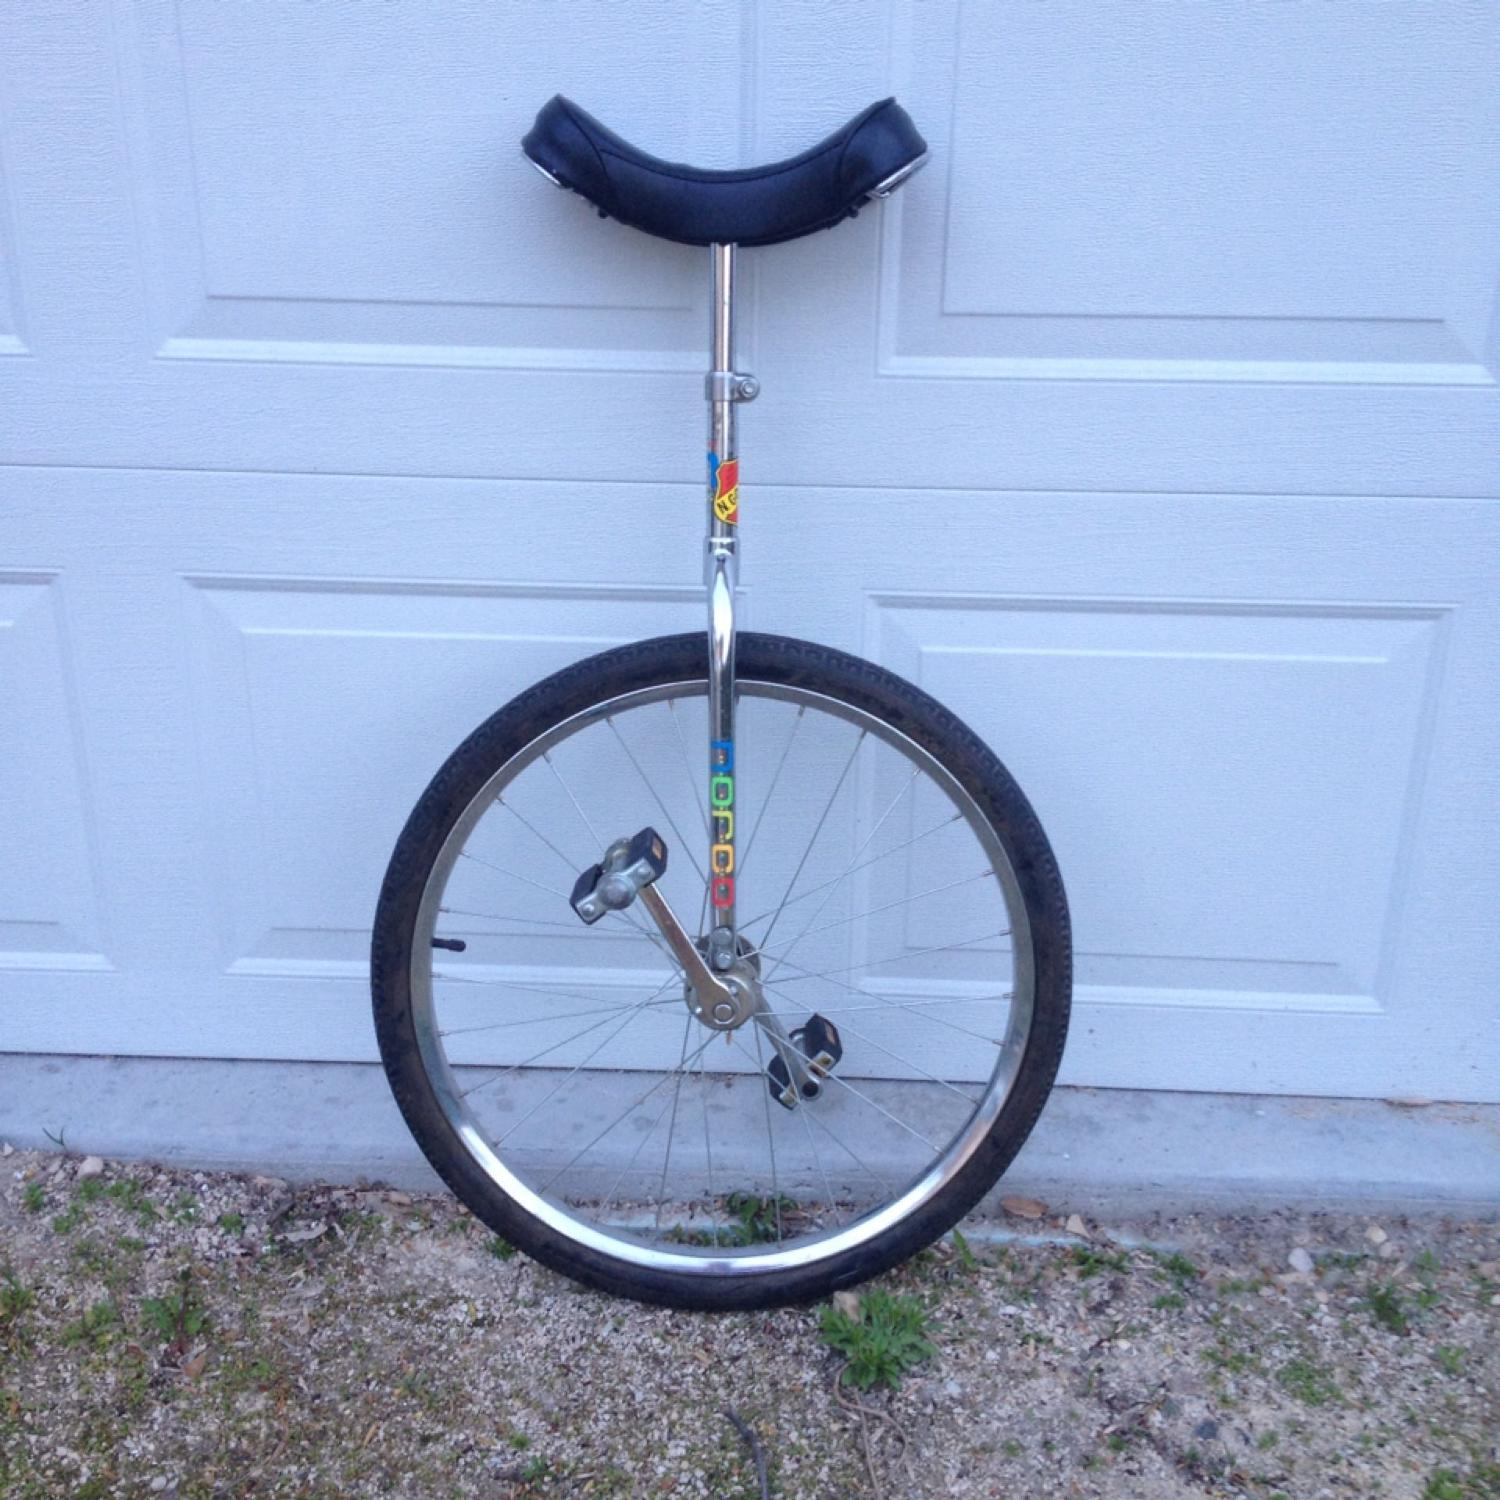seat: (501, 56, 948, 255)
wheel: (334, 598, 1104, 1328)
